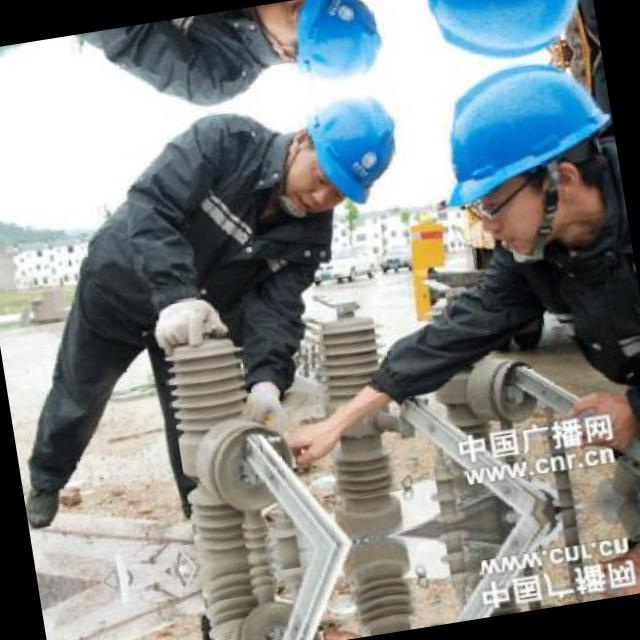helmet: (415, 53, 617, 270), (280, 84, 424, 225), (399, 0, 587, 73), (263, 0, 403, 93)
